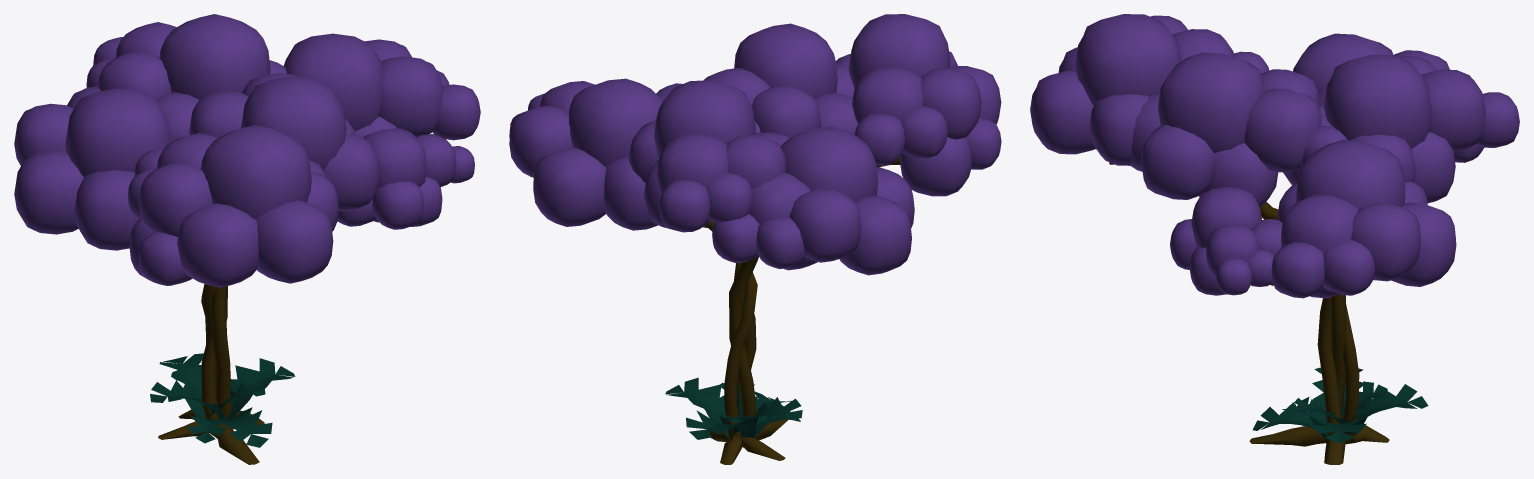
File: Plantas.FBX
3 views of the same model, side by side, from view 1: azimuth 30°, elevation 25°; view 2: azimuth 150°, elevation 25°; view 3: azimuth 270°, elevation 25° (orthographic). The views are drawn at different scales.
Visible parts, largest first — view 1: Box015, Box025, Box045, Box055, Box035, Box020, planta001, Box019, Line003, Box050, Box032, Box049 (+20 smaller); view 2: Line003, Box035, Box055, Box045, Box025, Box015, Box040, Box044, Box050, planta001, Box022, Box014 (+21 smaller); view 3: Box025, Box055, Box015, Line003, Box035, Box052, Box058, Box019, planta001, Box034, Box022, Box032 (+20 smaller).
Boxes of the visible parts, bbox=[...] form: Box015: bbox=[200, 125, 311, 219]; Box025: bbox=[159, 14, 270, 99]; Box045: bbox=[65, 88, 170, 176]; Box055: bbox=[241, 76, 346, 169]; Box035: bbox=[284, 33, 383, 131]; Box020: bbox=[177, 203, 258, 287]; planta001: bbox=[150, 353, 295, 447]; Box019: bbox=[256, 200, 333, 283]; Line003: bbox=[158, 284, 264, 464]; Box050: bbox=[14, 151, 83, 234]; Box032: bbox=[379, 56, 443, 136]; Box049: bbox=[74, 170, 138, 250]; Line003: bbox=[703, 155, 900, 464]; Box035: bbox=[568, 78, 662, 166]; Box055: bbox=[734, 23, 837, 99]; Box045: bbox=[780, 126, 878, 202]; Box025: bbox=[654, 80, 755, 158]; Box015: bbox=[848, 14, 950, 89]; Box040: bbox=[533, 147, 606, 226]; Box044: bbox=[789, 188, 861, 262]; Box050: bbox=[839, 195, 911, 275]; planta001: bbox=[665, 377, 802, 439]; Box022: bbox=[656, 133, 728, 194]; Box014: bbox=[921, 68, 981, 139]; Box025: bbox=[1324, 54, 1431, 148]; Box055: bbox=[1158, 52, 1265, 152]; Box015: bbox=[1075, 14, 1181, 105]; Line003: bbox=[1109, 162, 1389, 464]; Box035: bbox=[1296, 139, 1405, 208]; Box052: bbox=[1244, 88, 1321, 172]; Box058: bbox=[1141, 125, 1213, 199]; Box019: bbox=[1030, 70, 1095, 154]; planta001: bbox=[1252, 367, 1428, 443]; Box034: bbox=[1351, 202, 1420, 281]; Box022: bbox=[1421, 69, 1485, 151]; Box032: bbox=[1281, 194, 1358, 253].
Size of the model in its own units: 125 by 111 by 123.
